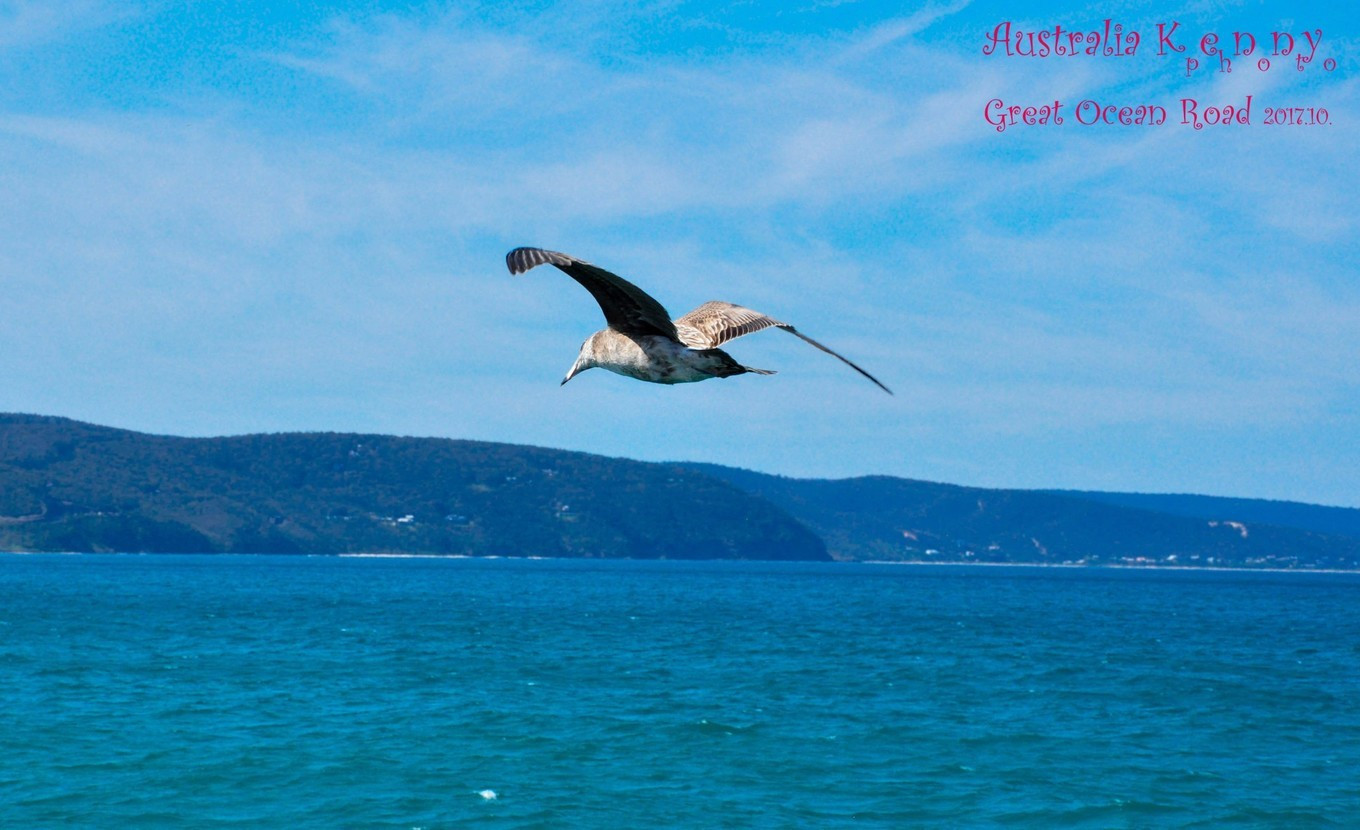bird: (507, 243, 902, 398)
